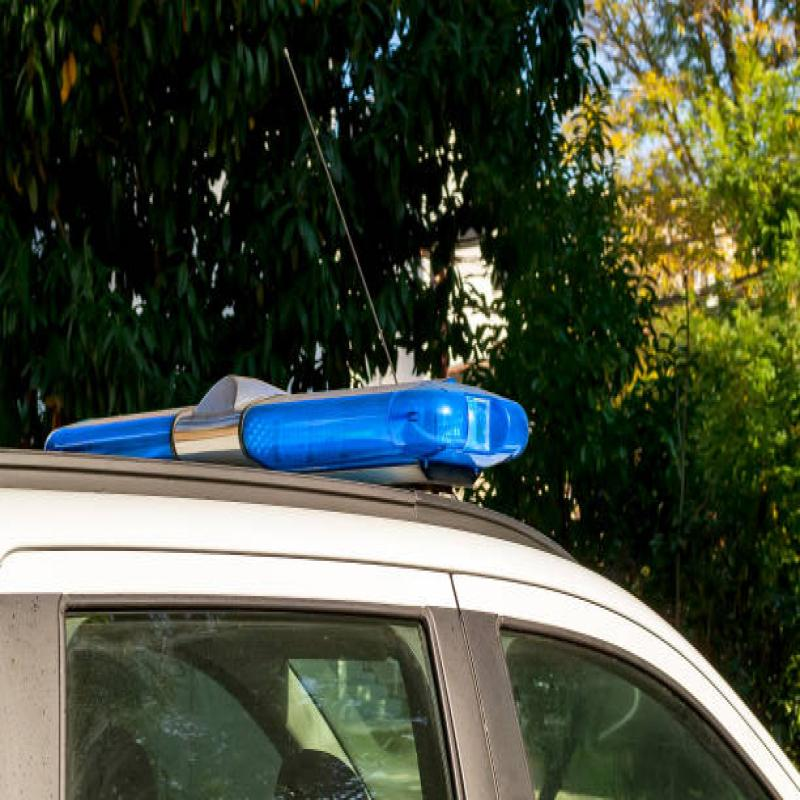AmbulanceSiren: (34, 361, 517, 491)
